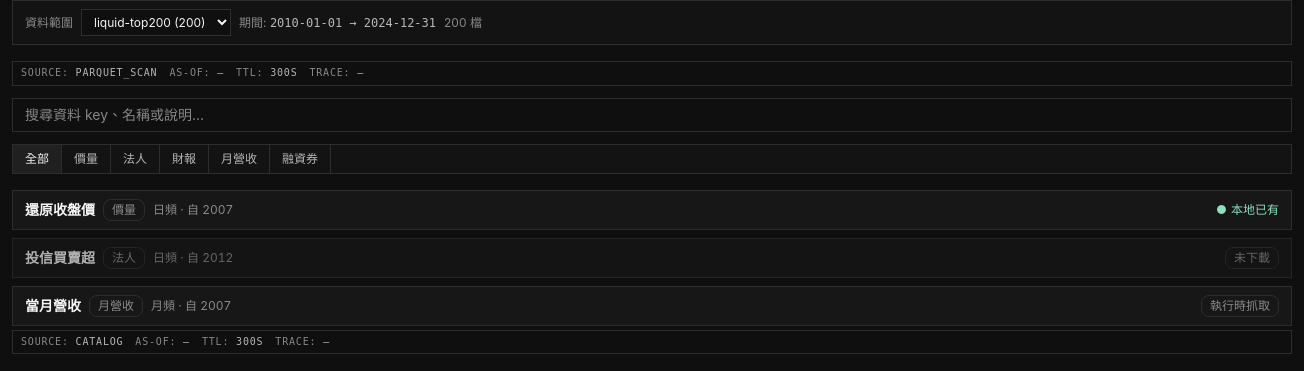
Scenario: DatasetCatalog › category chip filters to a single category (client-side)
Expected: the text "還原收盤價" is shown, [25,200,95,220]
Note: 法人 chip → only the institutional card remains
Step 1. Click the button "法人" → (136, 158), box [111,144,160,172]
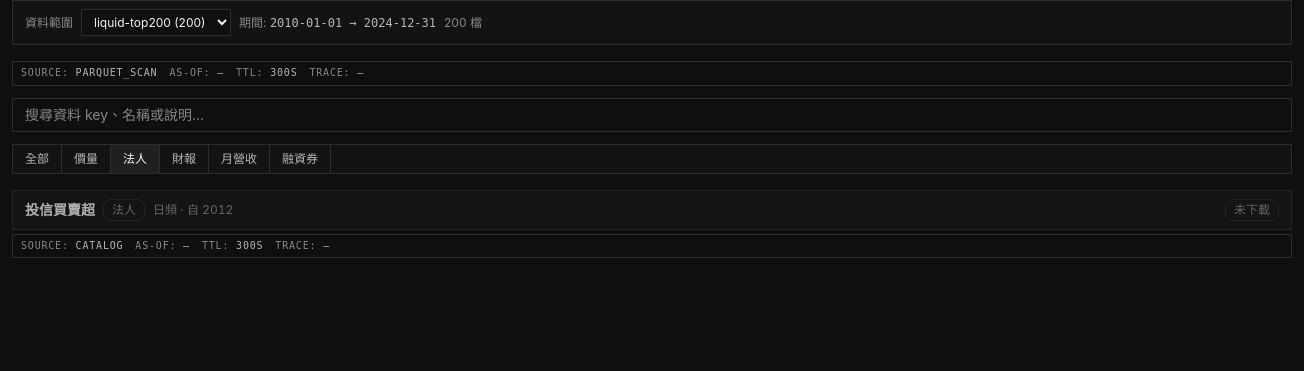
Expected: the text "投信買賣超" is shown, [25,200,95,220]
Result: the heading "還原收盤價" is gone
Result: the heading "當月營收" is gone
